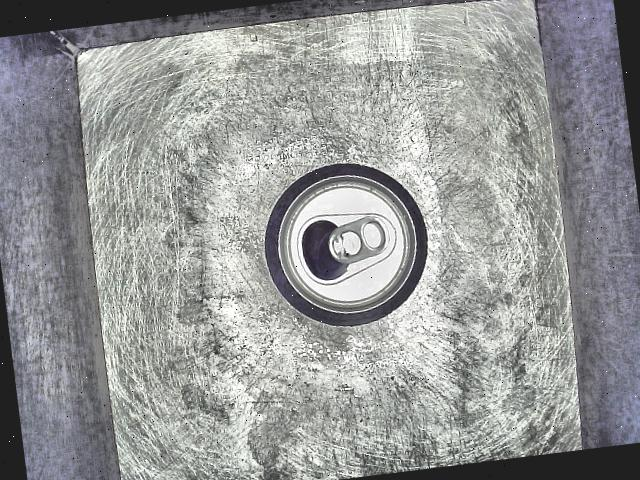Bottles: (235, 150, 450, 361)
